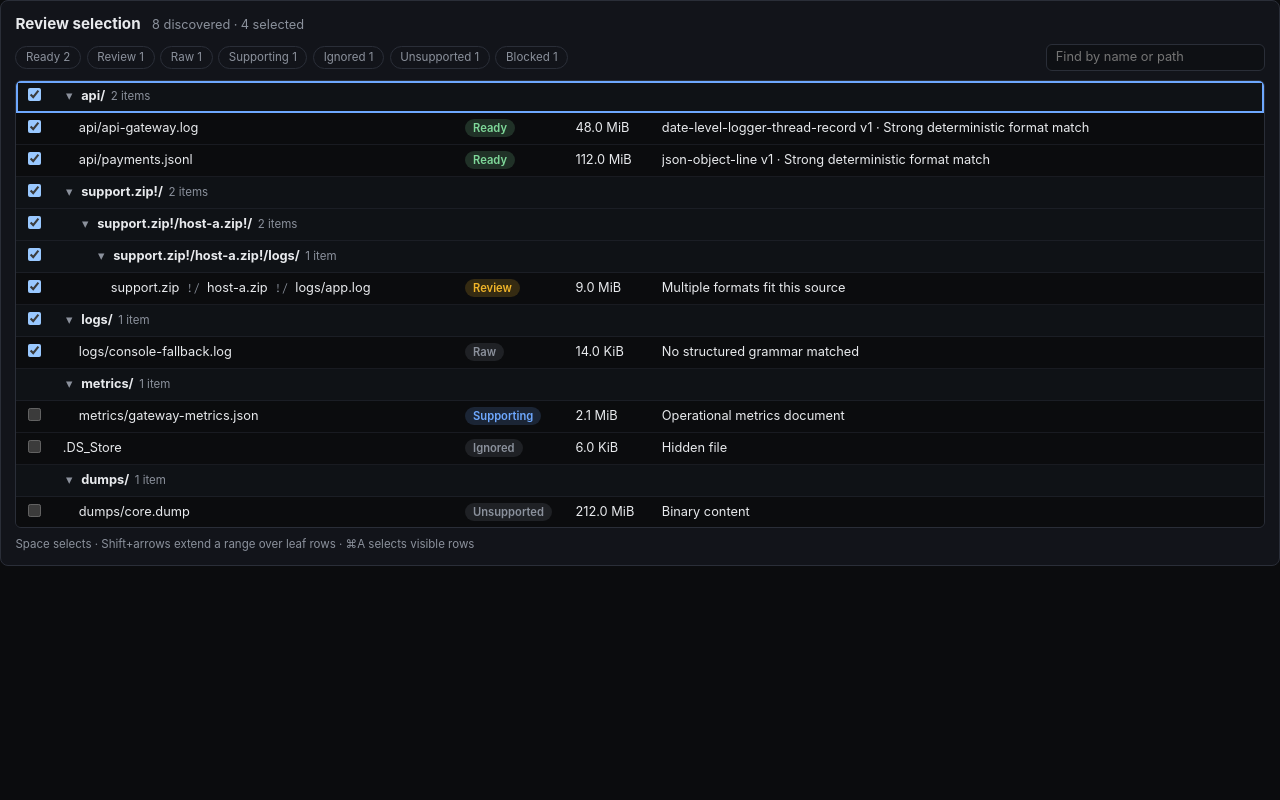
EvidenceSelector keyboard and focus › status filters narrow rows without mutating selection
The image size is (1280, 800).
Click the button "Blocked 1" at [532, 57], box [496,46,568,68]
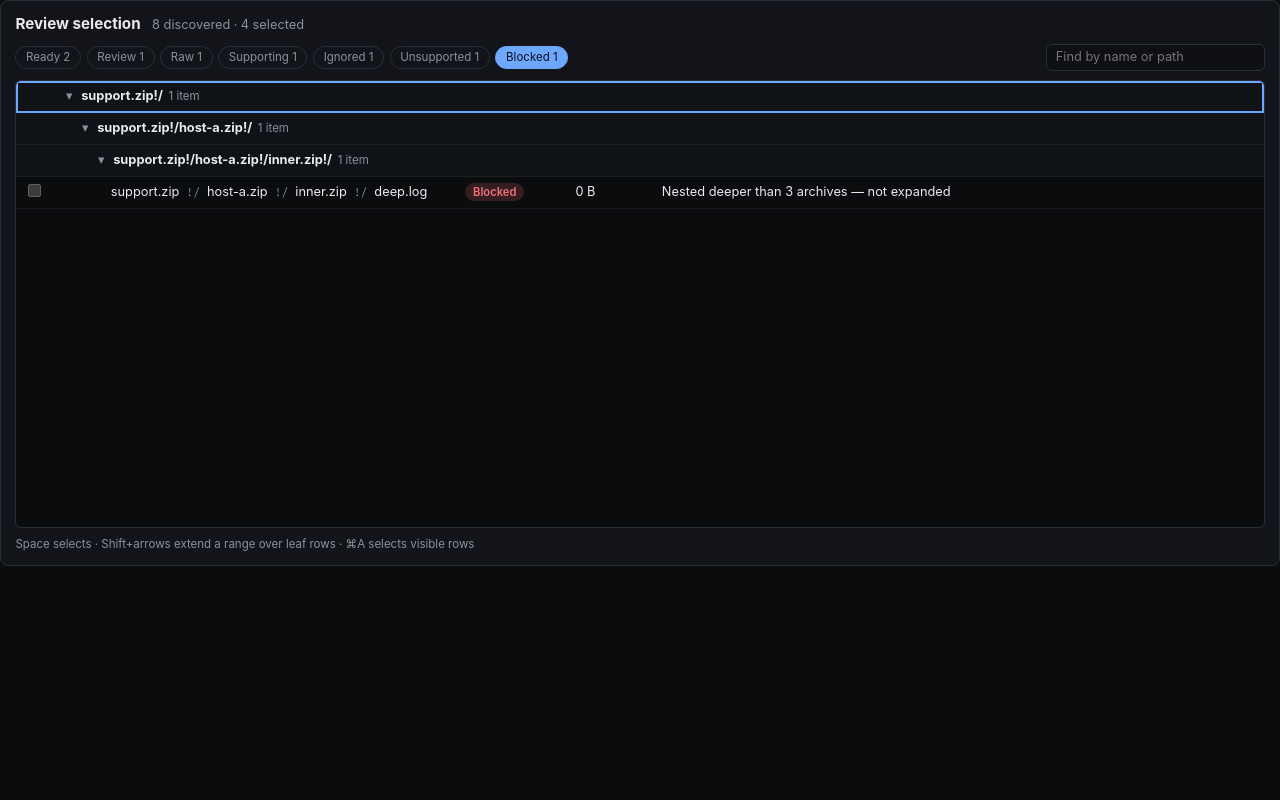
Expected: the row "▾ support.zip!/ 1 item" is shown, [16,80,1264,112]
Now the text "api/api-gateway.log" is gone
Click the button "Blocked 1" at [532, 57], box [496,46,568,68]
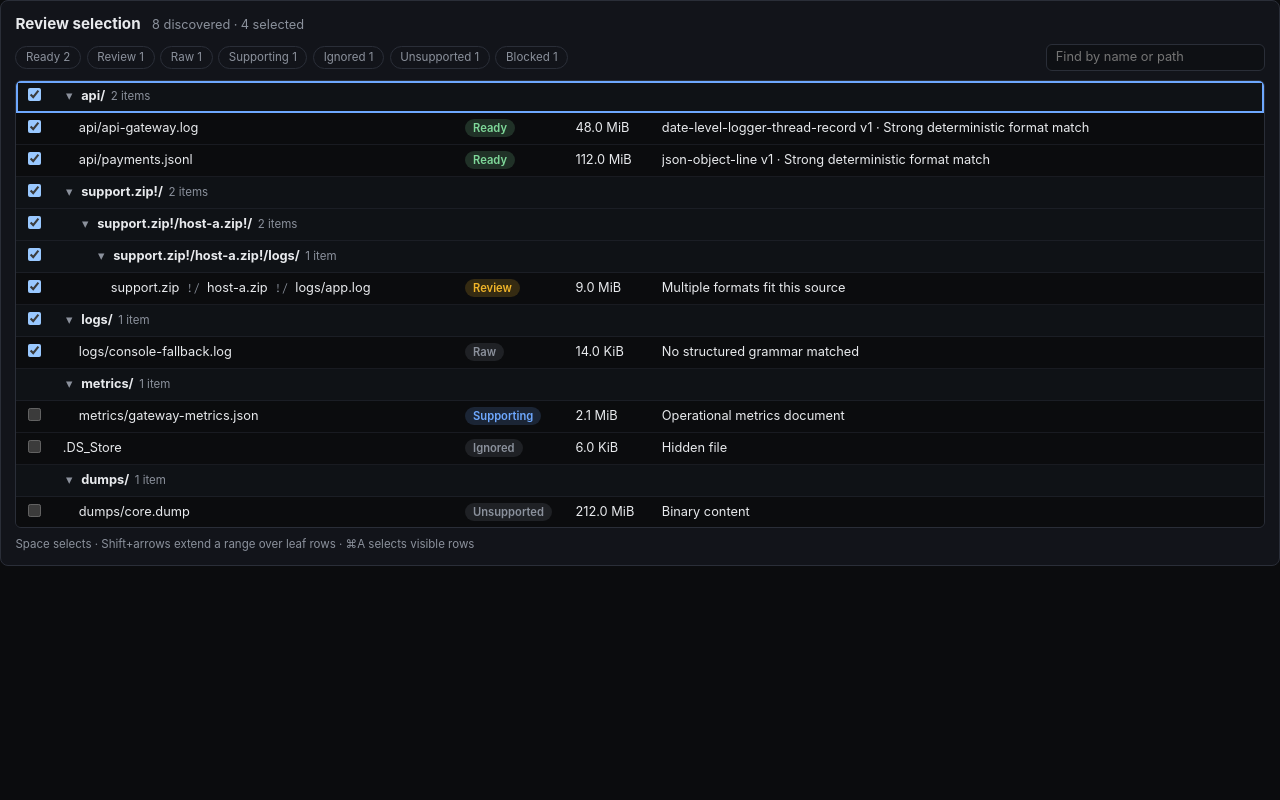
Now the checkbox named "api/api-gateway.log" is checked, box [28,120,41,133]
